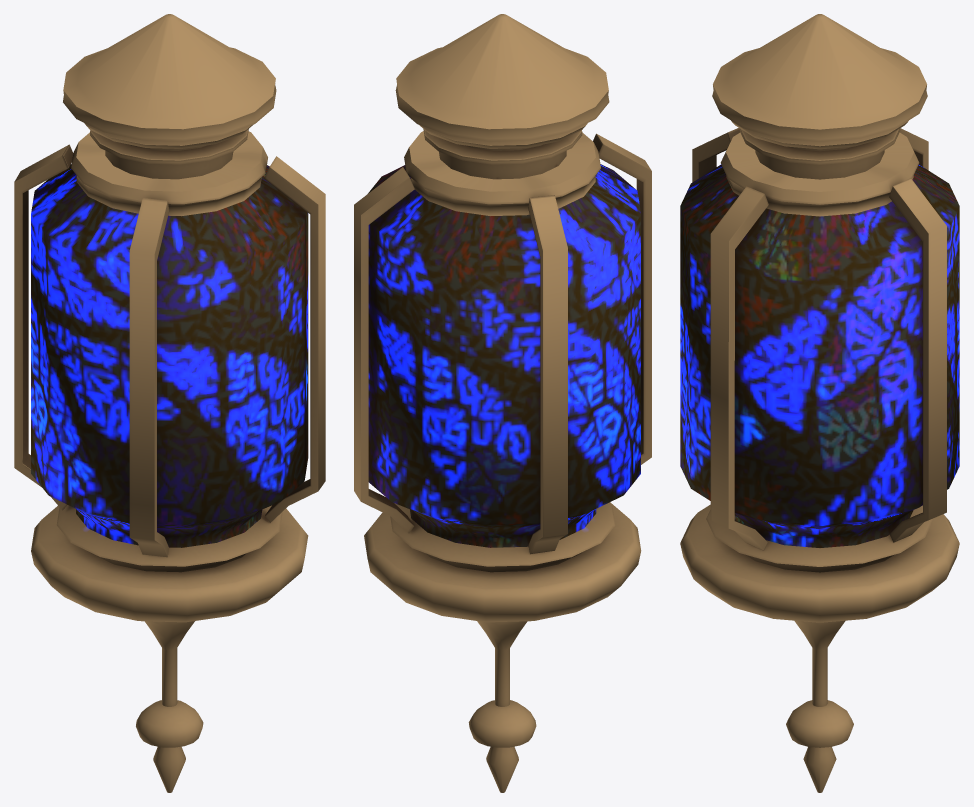
File: SM_Lantern_04.fbx
The picture shows the model from 3 angles, left to right: view 1: azimuth 30°, elevation 25°; view 2: azimuth 150°, elevation 25°; view 3: azimuth 270°, elevation 25°; orthographic projection.
Visible parts, largest first — view 1: SM_Lantern_04_LOD0; view 2: SM_Lantern_04_LOD0; view 3: SM_Lantern_04_LOD0.
Boxes of the visible parts, x1=… form: SM_Lantern_04_LOD0: x1=14, y1=14, x2=325, y2=792; SM_Lantern_04_LOD0: x1=354, y1=14, x2=651, y2=792; SM_Lantern_04_LOD0: x1=680, y1=14, x2=959, y2=792.
Bounding box in the file's own units: 40.02 × 40.02 × 123.
